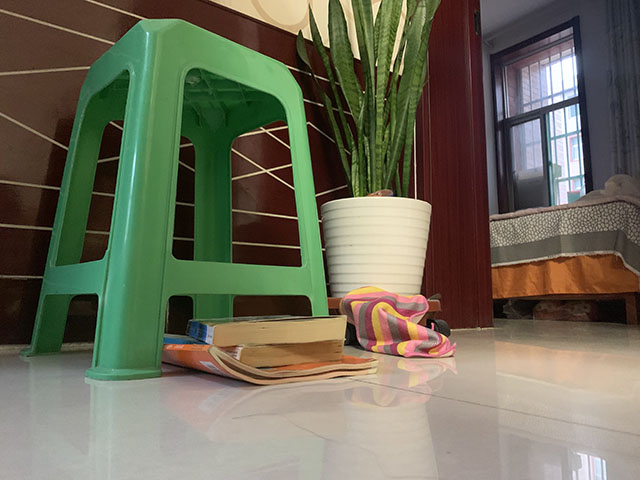bed: (489, 173, 640, 328)
book: (160, 313, 380, 387)
stool: (18, 16, 330, 383)
